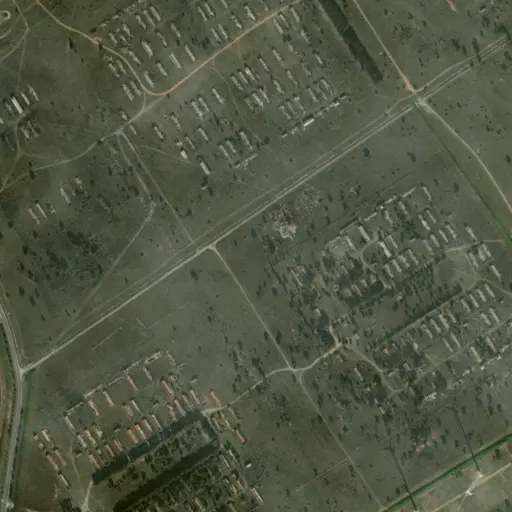wt: (435, 391, 491, 507), (372, 433, 428, 509)
